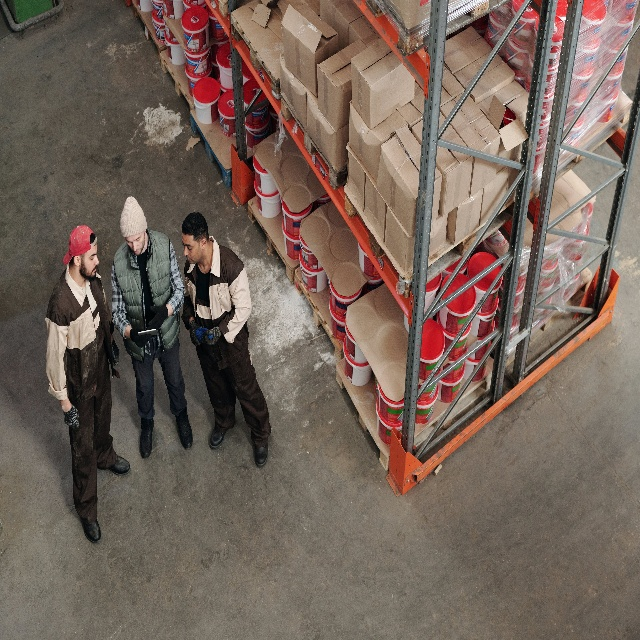Guantes: (146, 305, 168, 333), (62, 403, 80, 430), (129, 327, 151, 349), (188, 319, 204, 347), (201, 326, 223, 346), (108, 336, 119, 368)
